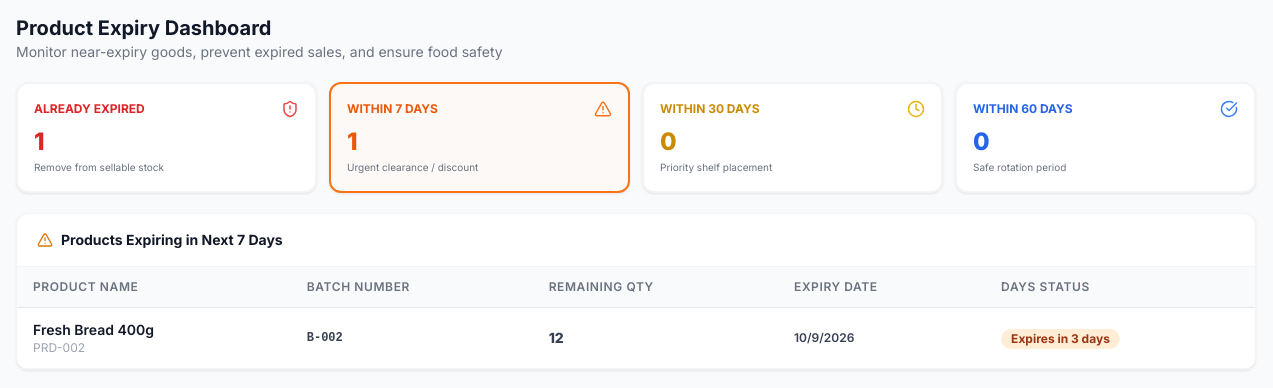
ExpiryPage Component & Buckets › renders expiry bucket cards and toggles between Expired and Within 7 Days tabs
Expected: the heading "Product Expiry Dashboard" is shown, [16,16,271,40]
Expected: the text "Fresh Bread 400g" is shown, [33,321,154,338]
Note: Click "Already Expired" bucket button
Click the button "Already Expired 1 Remove from sellable stock": [89, 108] box [16,82,317,193]
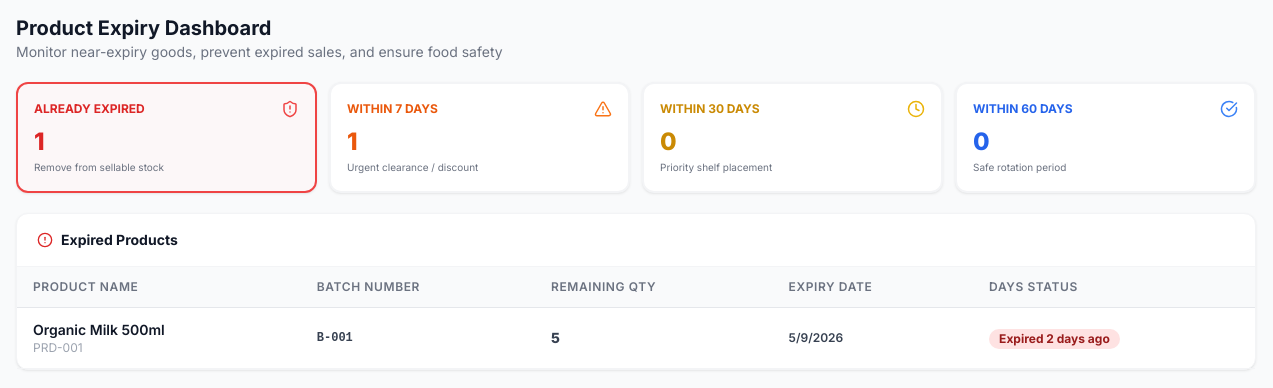
Result: the text "Organic Milk 500ml" is shown at [33,321,165,338]
